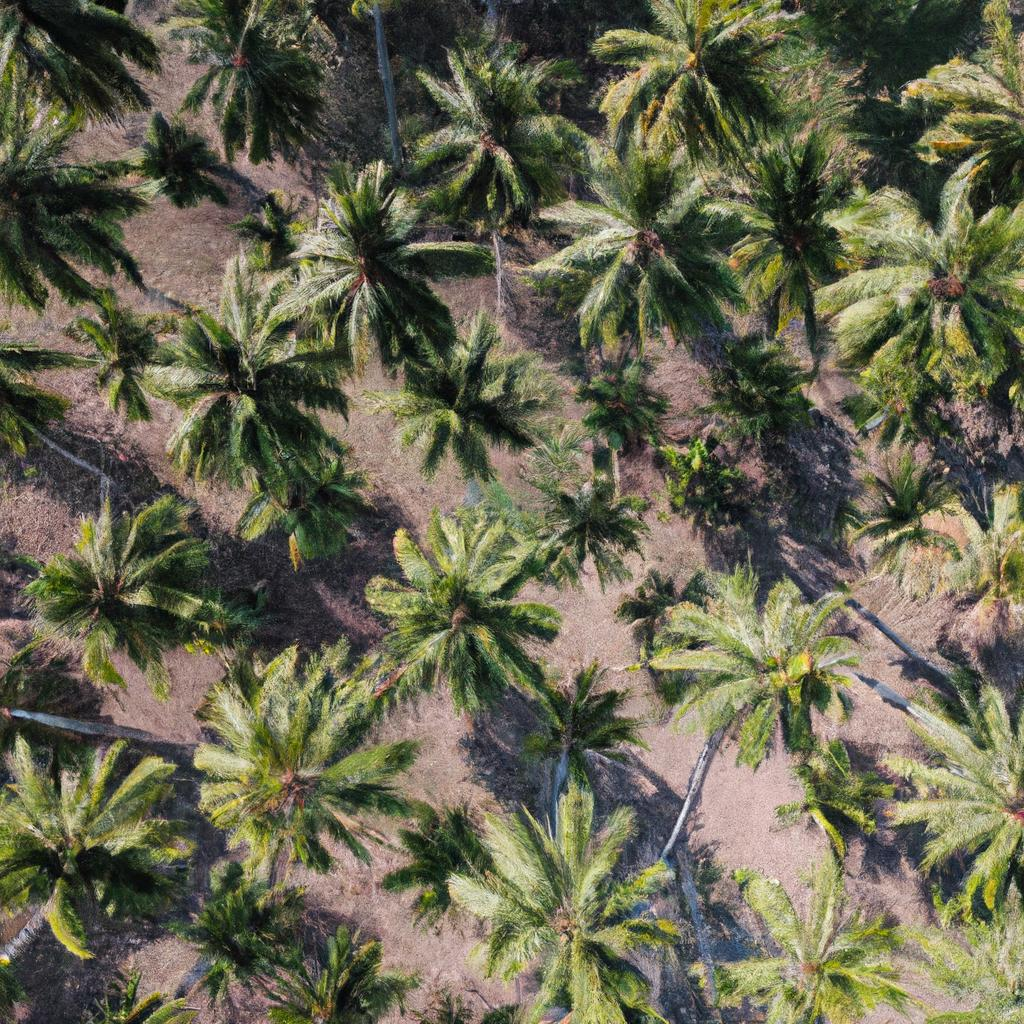coconut_tree: (441, 790, 720, 1017), (138, 264, 376, 496), (173, 640, 408, 870), (790, 166, 1023, 394), (355, 493, 587, 720), (532, 132, 754, 356), (649, 551, 881, 764), (32, 491, 249, 697), (0, 713, 179, 940), (265, 169, 495, 345)
